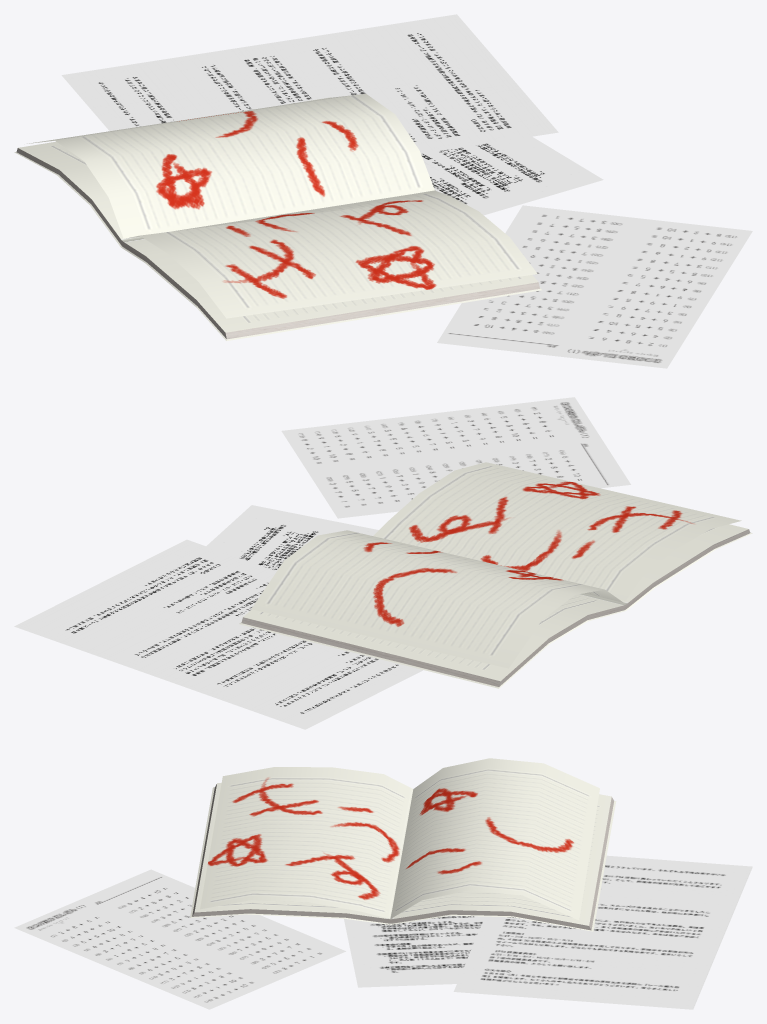
File: Notebooks.fbx
3 renders of one model, top to bottom at view 1: azimuth 30°, elevation 25°; view 2: azimuth 150°, elevation 25°; view 3: azimuth 270°, elevation 25°, orthographic. The views are drawn at different scales.
Parts seen in each view (by area): view 1: Notebook_geo; view 2: Notebook_geo; view 3: Notebook_geo.
Part boxes in pixels (bbox=[...]): Notebook_geo: bbox=[14, 14, 752, 368]; Notebook_geo: bbox=[14, 397, 752, 729]; Notebook_geo: bbox=[14, 758, 752, 1009].
Size of the model in its own units: 42.71 by 5.18 by 63.78.
Materials: 1 (1 with a texture image).
